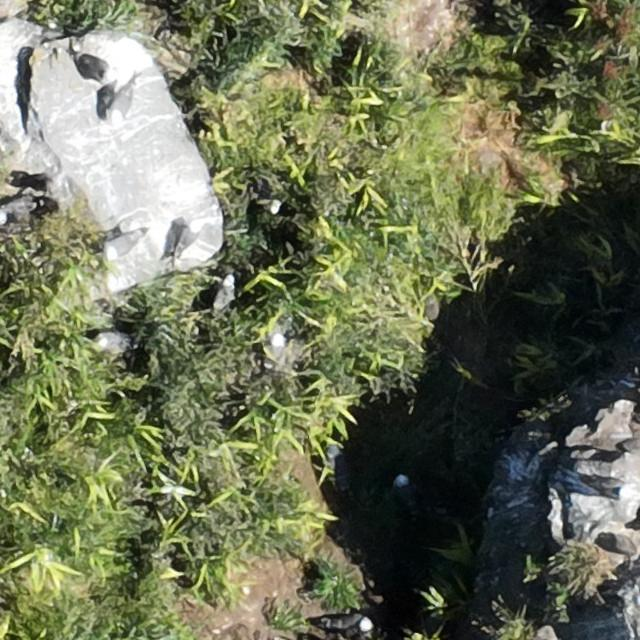umineko: (106, 81, 132, 128), (173, 220, 202, 257), (104, 230, 139, 260), (328, 443, 350, 488), (76, 54, 111, 80), (325, 615, 367, 632), (215, 275, 236, 309), (593, 483, 636, 499), (1, 201, 27, 221), (394, 476, 414, 502), (96, 332, 124, 350), (267, 333, 283, 362)
